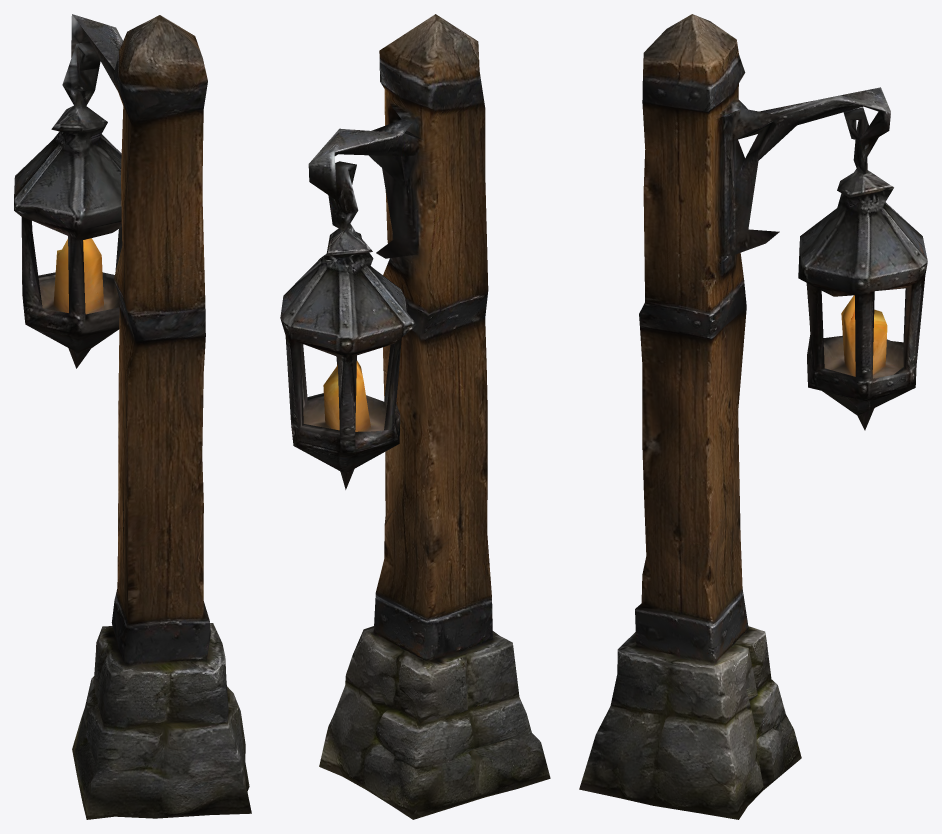
File: lanternpost.glb
3 views of the same model, side by side, from view 1: azimuth 30°, elevation 25°; view 2: azimuth 150°, elevation 25°; view 3: azimuth 270°, elevation 25° (orthographic).
Visible parts, largest first — view 1: tripo_node_fad88c3b-b3f3-45b6-86cb-4ad06a9fc5fb; view 2: tripo_node_fad88c3b-b3f3-45b6-86cb-4ad06a9fc5fb; view 3: tripo_node_fad88c3b-b3f3-45b6-86cb-4ad06a9fc5fb.
Boxes of the visible parts, <box> form: tripo_node_fad88c3b-b3f3-45b6-86cb-4ad06a9fc5fb: <box>14,14,251,819</box>; tripo_node_fad88c3b-b3f3-45b6-86cb-4ad06a9fc5fb: <box>280,14,550,819</box>; tripo_node_fad88c3b-b3f3-45b6-86cb-4ad06a9fc5fb: <box>579,14,927,819</box>.
Size of the model in its own units: 0.2578 by 1 by 0.4155.
1 material, 1 textured.
